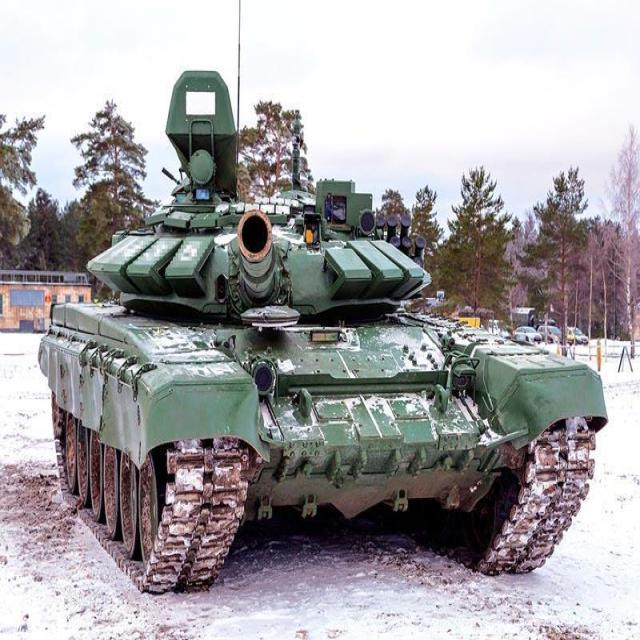MIL_MBT: (21, 169, 622, 619)
